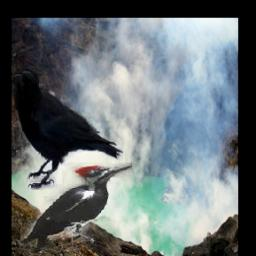Crow: (13, 70, 124, 191)
Woodpecker: (20, 162, 132, 253)
